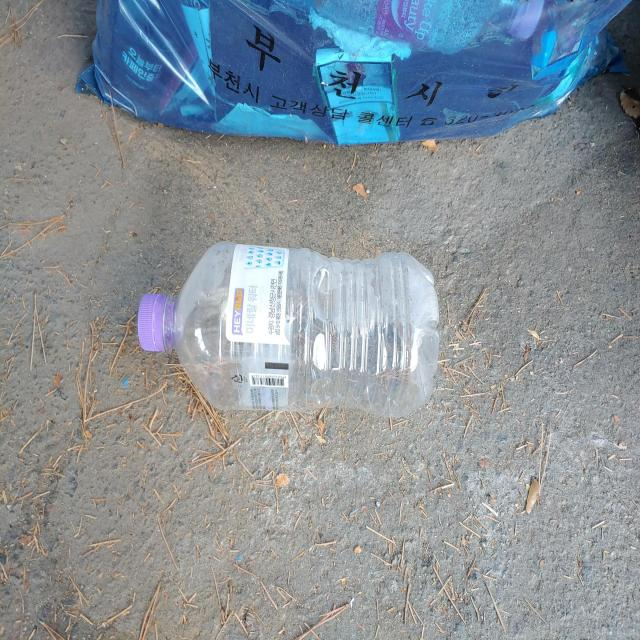plastic: (137, 242, 439, 416)
